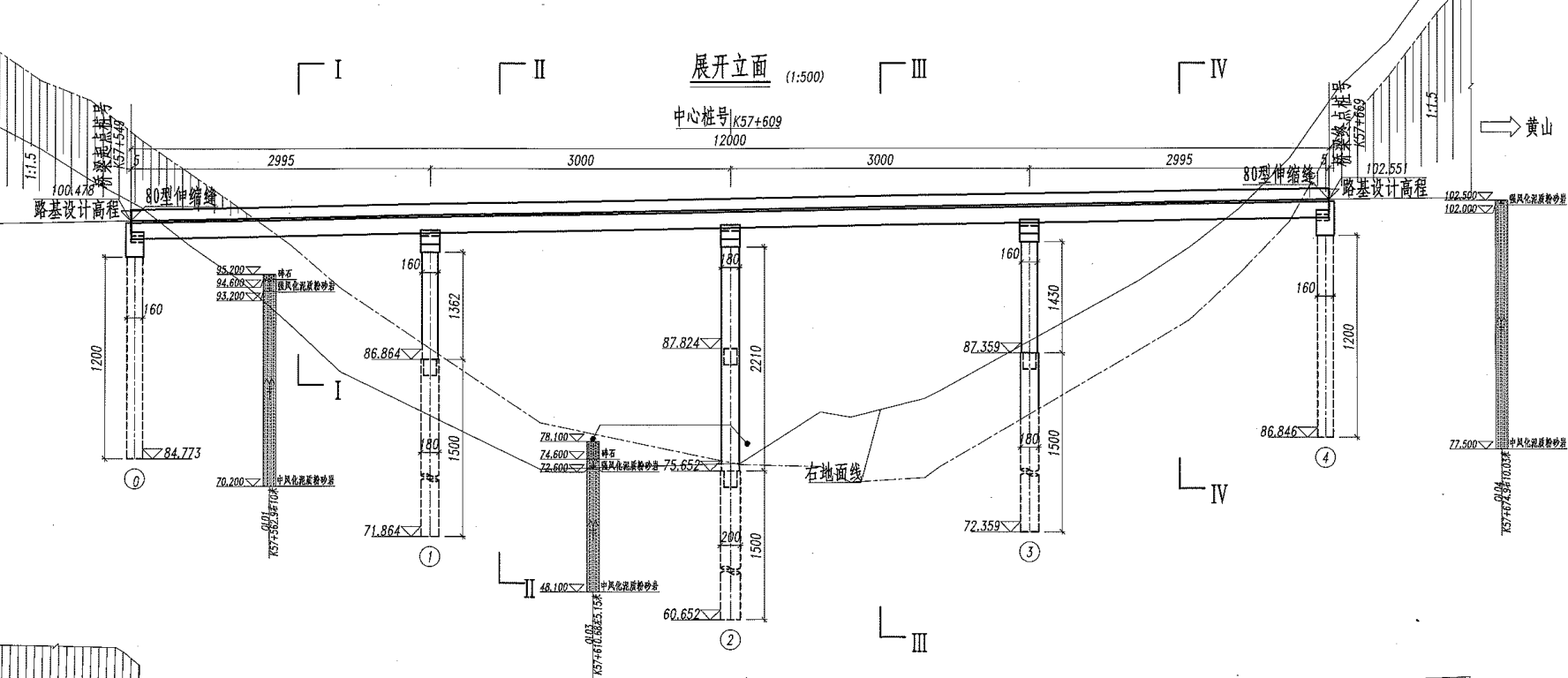C: (645, 215, 763, 660), (951, 211, 1056, 571), (351, 222, 457, 575), (1263, 199, 1353, 479), (124, 131, 1338, 150)
